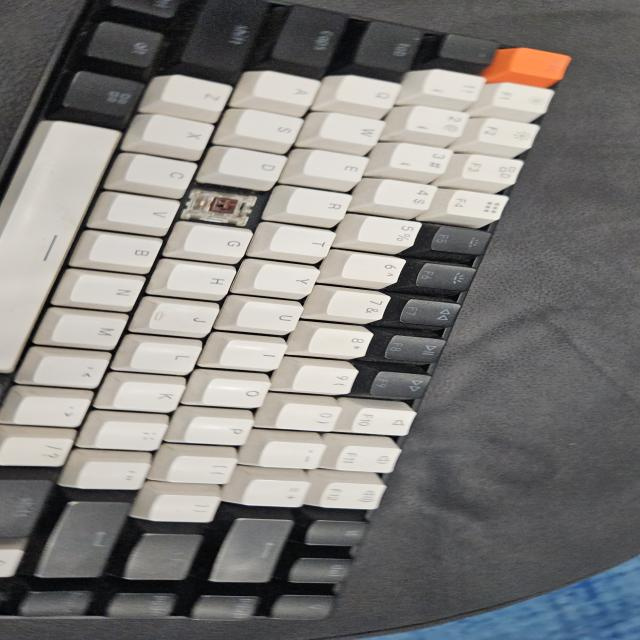C: (201, 192, 238, 223)
